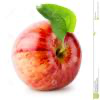Apple leaf: (36, 3, 78, 42)
